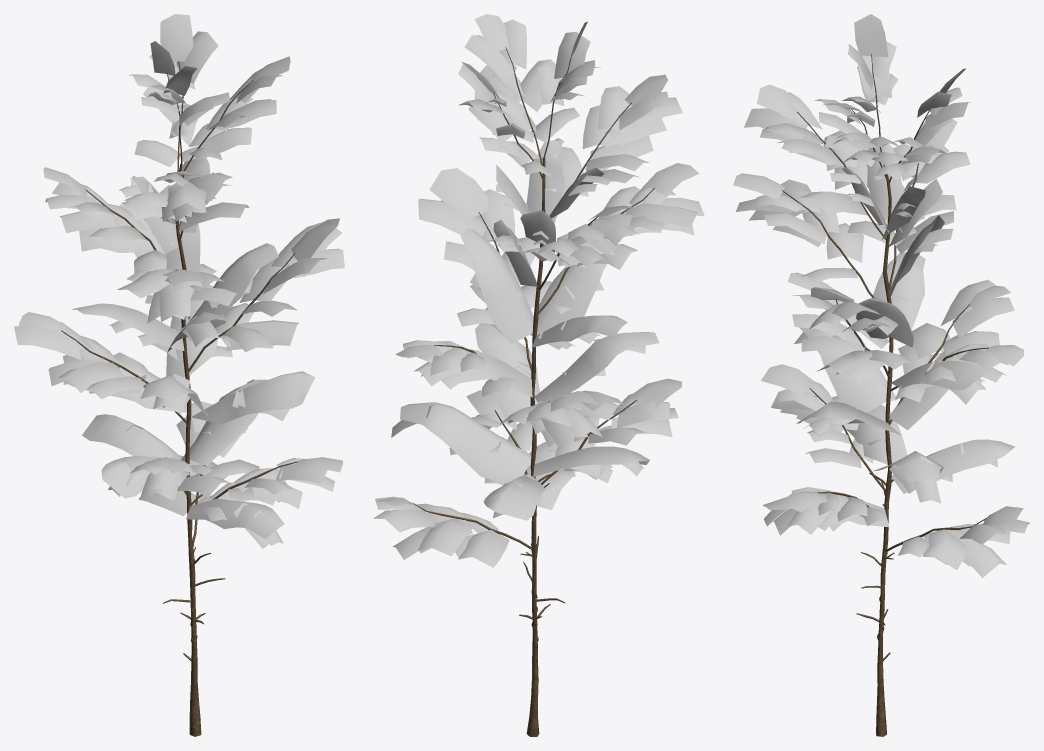
File: Tree_Small2_LOD0.fbx
3 views of the same model, side by side, from view 1: azimuth 30°, elevation 25°; view 2: azimuth 150°, elevation 25°; view 3: azimuth 270°, elevation 25° (orthographic). The views are drawn at different scales.
Parts seen in each view (by area): view 1: polySurface24; view 2: polySurface24; view 3: polySurface24.
Boxes of the visible parts, <box> form: polySurface24: <box>14,14,344,736</box>; polySurface24: <box>373,14,704,736</box>; polySurface24: <box>733,14,1029,736</box>.
Size of the model in its own units: 177 by 457 by 176.
